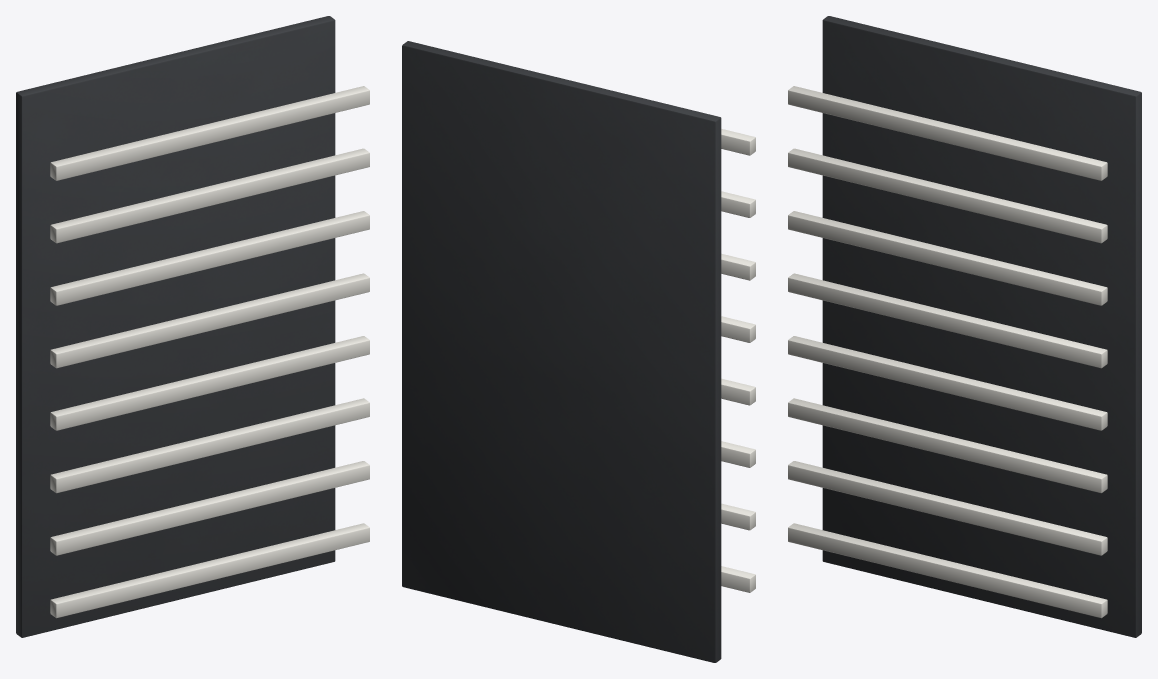
Rendered from pf_display_wall_slat_system_t1.glb.
3 views of the same model, side by side, from view 1: azimuth 30°, elevation 25°; view 2: azimuth 150°, elevation 25°; view 3: azimuth 330°, elevation 25° (orthographic).
Parts seen in each view (by area): view 1: Slatwall_Back, Slat_02, Slat_04, Slat_03, Slat_05, Slat_08, Slat_01, Slat_07, Slat_06; view 2: Slatwall_Back, Slat_06, Slat_04, Slat_05, Slat_07, Slat_02, Slat_03, Slat_08, Slat_01; view 3: Slatwall_Back, Slat_02, Slat_04, Slat_03, Slat_05, Slat_08, Slat_01, Slat_07, Slat_06.
Part boxes in pixels (<box>): Slatwall_Back: <box>16,16,335,637</box>; Slat_02: <box>50,461,369,555</box>; Slat_04: <box>50,336,369,430</box>; Slat_03: <box>50,398,369,493</box>; Slat_05: <box>50,273,369,368</box>; Slat_08: <box>50,86,369,180</box>; Slat_01: <box>50,523,369,617</box>; Slat_07: <box>50,148,369,243</box>; Slat_06: <box>50,211,369,305</box>; Slatwall_Back: <box>402,41,721,662</box>; Slat_06: <box>721,253,755,280</box>; Slat_04: <box>721,378,755,405</box>; Slat_05: <box>721,316,755,342</box>; Slat_07: <box>721,191,755,217</box>; Slat_02: <box>721,503,755,530</box>; Slat_03: <box>721,441,755,467</box>; Slat_08: <box>721,129,755,155</box>; Slat_01: <box>721,566,755,592</box>; Slatwall_Back: <box>822,16,1141,637</box>; Slat_02: <box>788,461,1107,555</box>; Slat_04: <box>788,336,1107,430</box>; Slat_03: <box>788,398,1107,493</box>; Slat_05: <box>788,273,1107,368</box>; Slat_08: <box>788,86,1107,180</box>; Slat_01: <box>788,523,1107,617</box>; Slat_07: <box>788,148,1107,243</box>; Slat_06: <box>788,211,1107,305</box>.
Size of the model in its own units: 1 by 1.65 by 0.24.
Materials: 3 (2 with a texture image).
